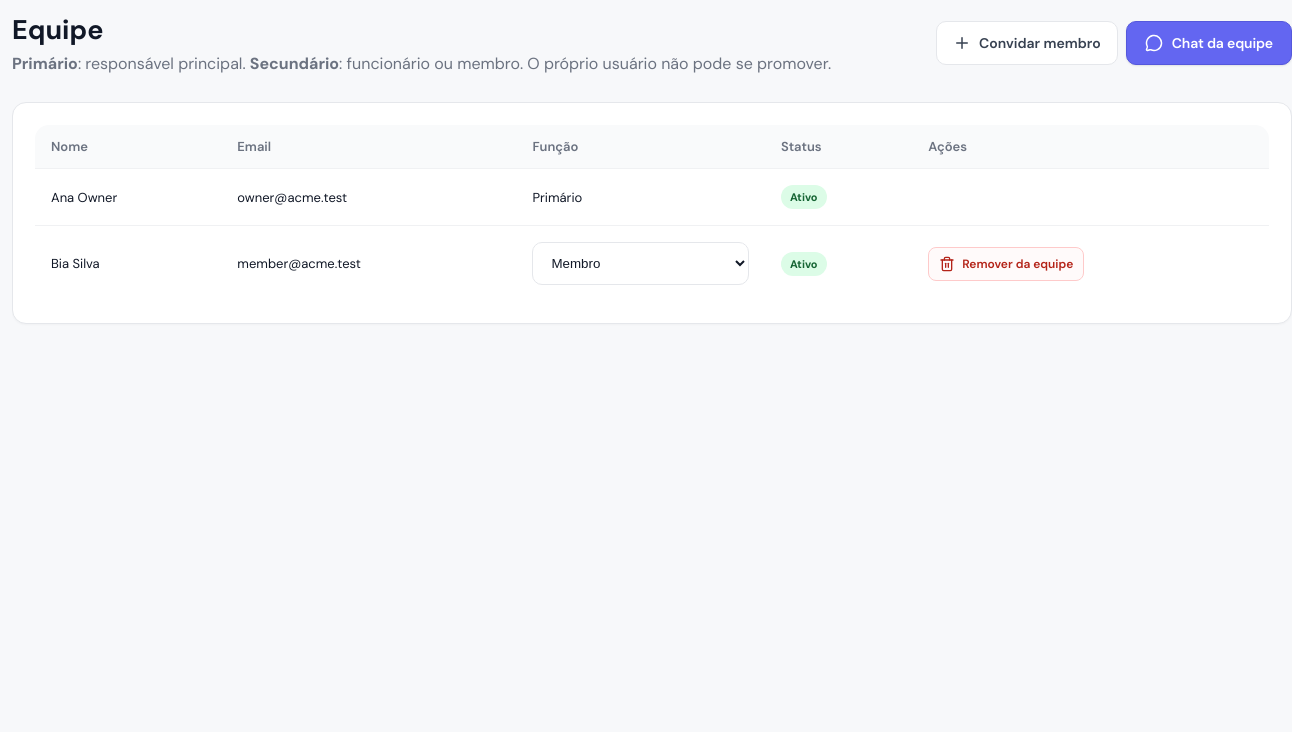
Test: Equipe › mantém a página estável e mostra feedback quando a remoção falha
Click the button with aria-label "Remover member@acme.test" at x=1006, y=264, box [928,246,1084,280]
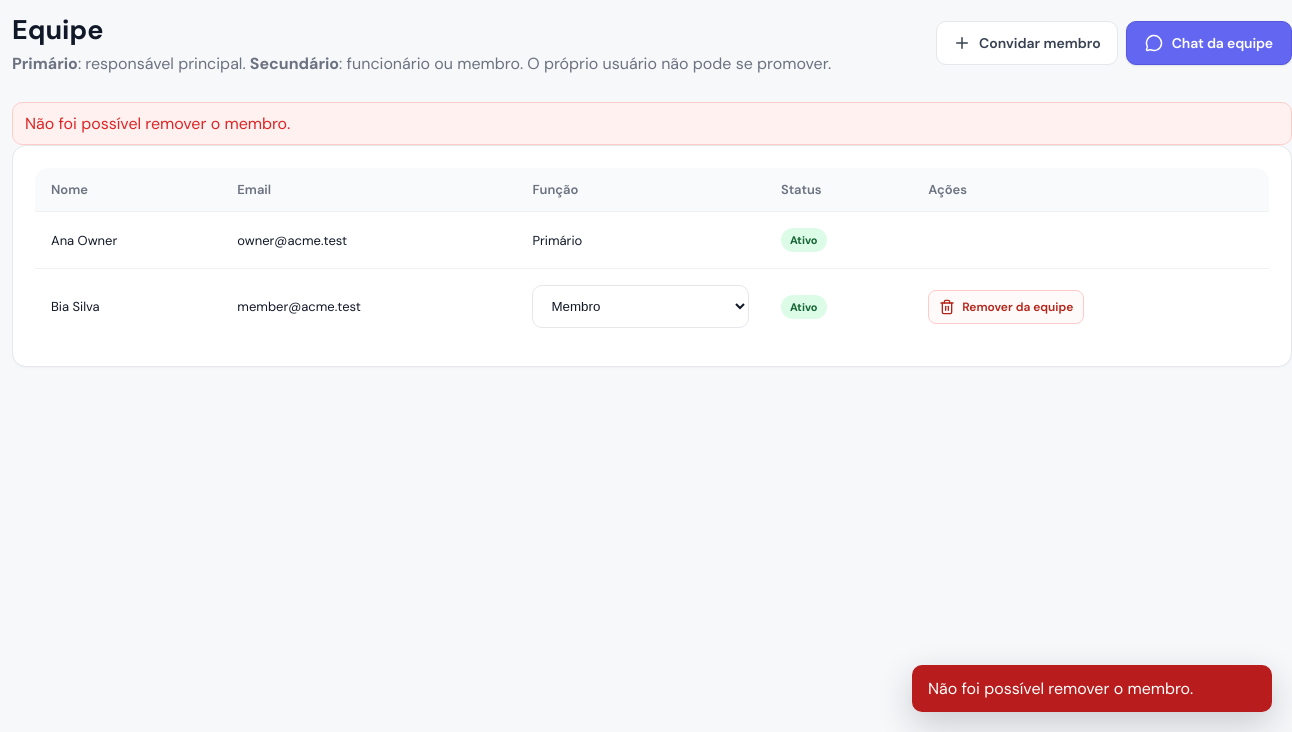
Expected: the text "member@acme.test" is shown, [221,268,516,344]
Expected: the text "Não foi possível remover o membro." is shown 2 times, [12,102,1291,145]; [912,665,1272,712]
